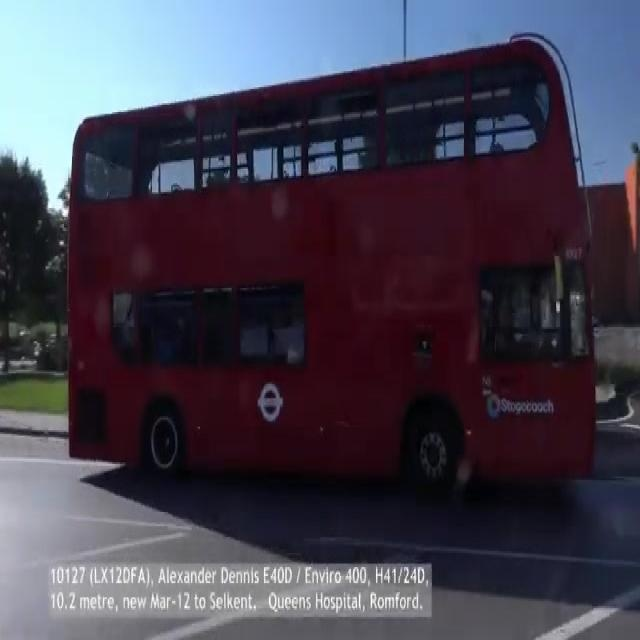Bus: (65, 36, 598, 490)
